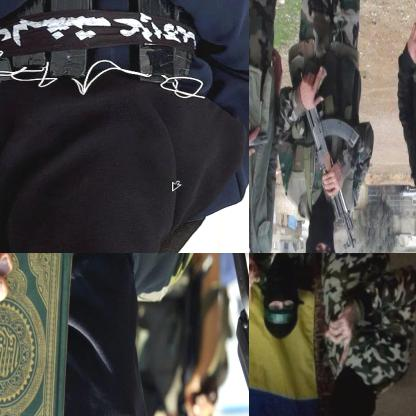pistol: (249, 106, 273, 148)
rifle: (301, 70, 363, 252)
